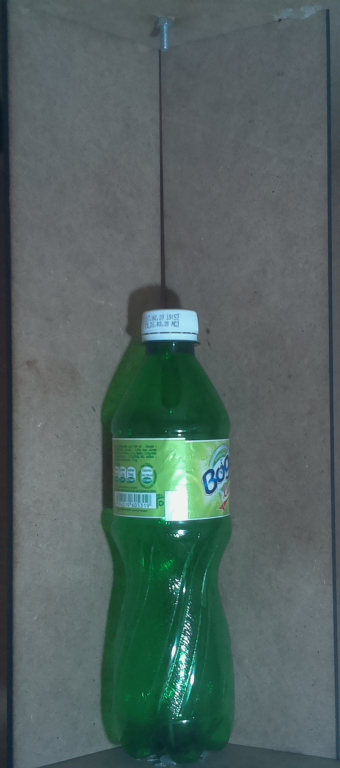Bouteille_0.5L: (100, 305, 246, 768)
